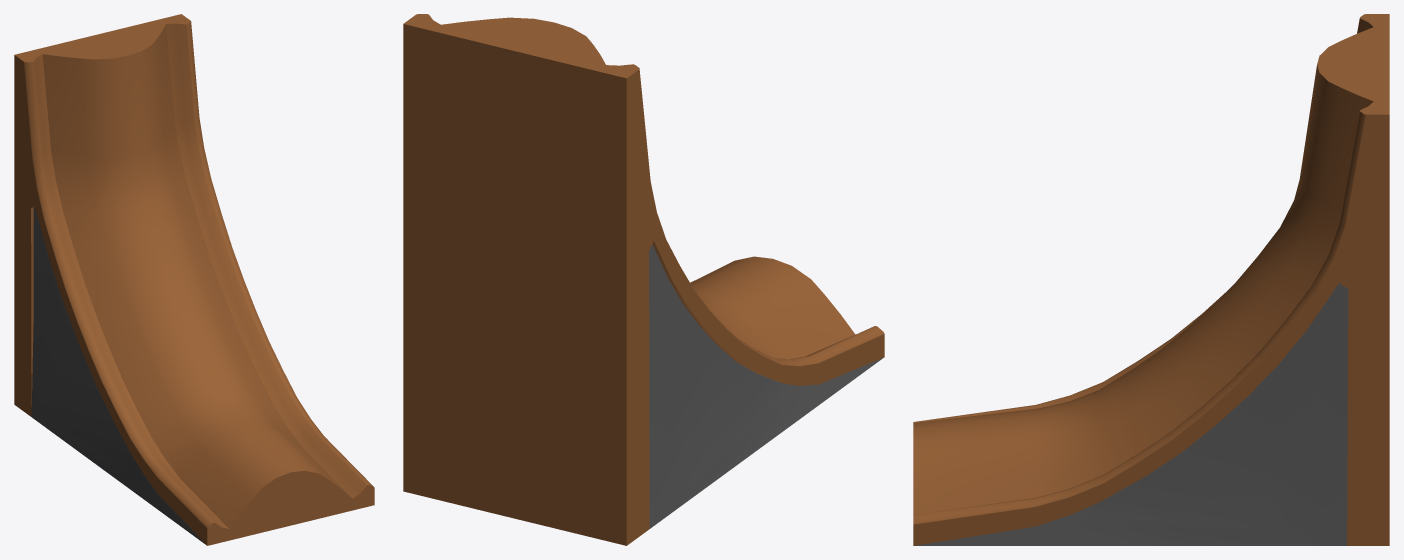
Rendered from 37_39_wall_deco_round_corner_I_gray.glb.
3 views of the same model, side by side, from view 1: azimuth 30°, elevation 25°; view 2: azimuth 150°, elevation 25°; view 3: azimuth 270°, elevation 25° (orthographic). The views are drawn at different scales.
Parts seen in each view (by area): view 1: Plane, Plane.001; view 2: Plane, Plane.001; view 3: Plane, Plane.001.
Boxes of the visible parts, bbox=[...] form: Plane: bbox=[14, 14, 374, 545]; Plane.001: bbox=[31, 207, 206, 545]; Plane: bbox=[403, 14, 884, 545]; Plane.001: bbox=[649, 244, 883, 528]; Plane: bbox=[913, 14, 1389, 545]; Plane.001: bbox=[915, 283, 1348, 545].
Bounding box in the file's own units: 0.75 × 1.5 × 1.5.
